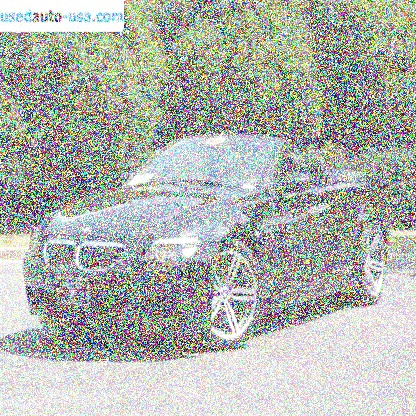Vehicle: (26, 134, 396, 350)
